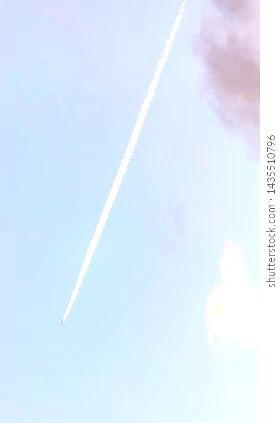Plane: (50, 120, 142, 343)
